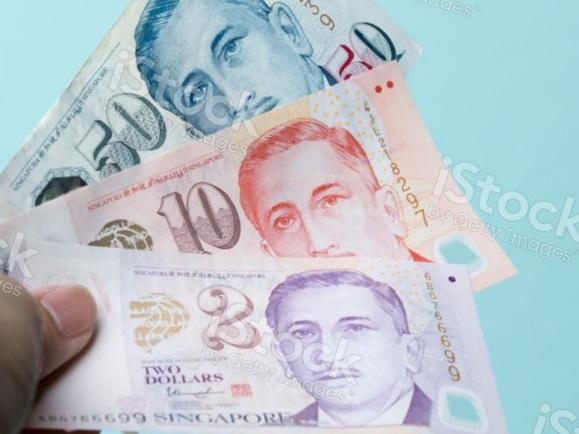2SingaporeDollar: (357, 83, 579, 425)
